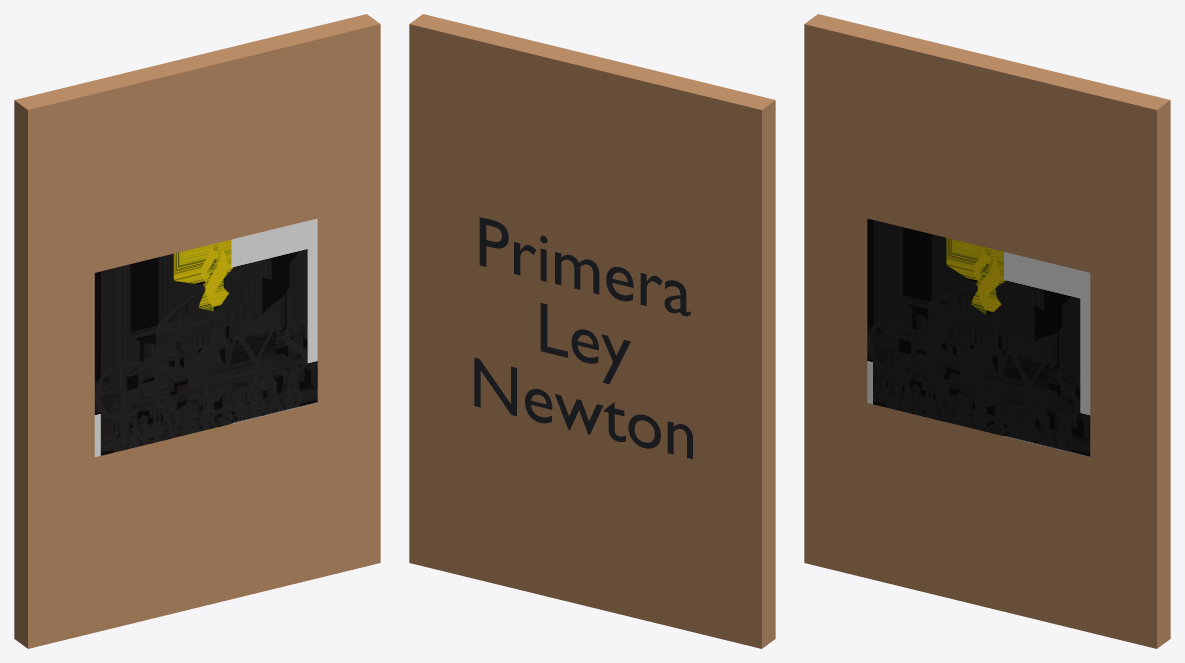
The model's file is CARTA1A.obj.
3 renders of one model, left to right at view 1: azimuth 30°, elevation 25°; view 2: azimuth 150°, elevation 25°; view 3: azimuth 330°, elevation 25°, orthographic.
Visible parts, largest first — view 1: cetyslogo; view 2: cetyslogo; view 3: cetyslogo.
Boxes of the visible parts, box(x1,y1,x2,y2) form: cetyslogo: box(14, 14, 380, 648); cetyslogo: box(409, 14, 775, 648); cetyslogo: box(804, 14, 1170, 648).
Size of the model in its own units: 2 by 2.92 by 0.172.
